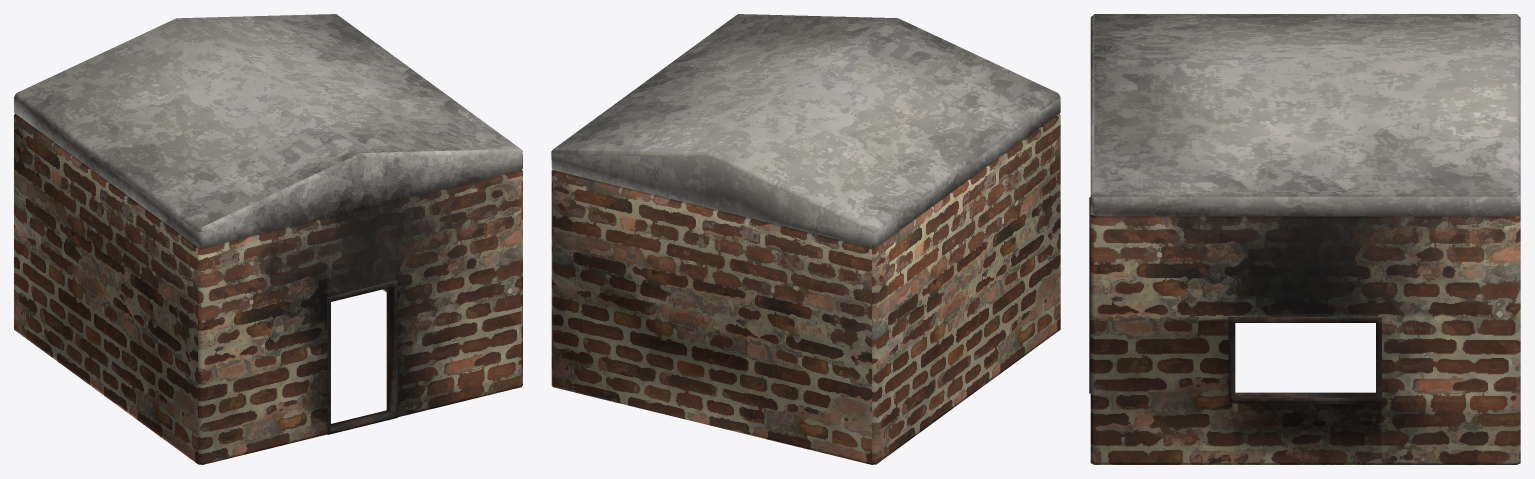
File: 장애물_소각장.fbx
3 renders of one model, left to right at view 1: azimuth 30°, elevation 25°; view 2: azimuth 150°, elevation 25°; view 3: azimuth 270°, elevation 25°, orthographic. The views are drawn at different scales.
Parts seen in each view (by area): view 1: 소각장; view 2: 소각장; view 3: 소각장.
Boxes of the visible parts, bbox=[...] form: 소각장: bbox=[14, 14, 522, 464]; 소각장: bbox=[551, 14, 1060, 464]; 소각장: bbox=[1089, 14, 1520, 464].
Size of the model in its own units: 501 by 399 by 500.
1 material, 1 textured.
